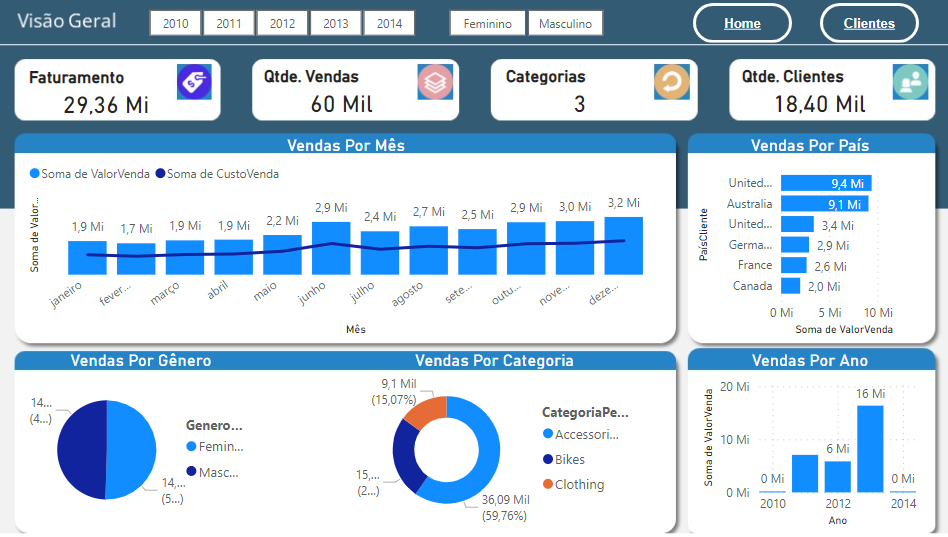

What the dashboard file says about the page in this screenshot:
{"tool":"powerbi","page":{"name":"Visao Geral","canvas":[1280,720],"ordinal":1},"visuals":[{"type":"actionButton","box":[862.9,92.1,100,40.3],"z":0},{"type":"actionButton","box":[991,92.1,100,40.3],"z":1},{"type":"card","title":"Faturamento","fields":{"Values":["vw_AnaliseVendas - vw_AnaliseVendas.ValorVenda"]},"box":[186.8,156.1,165.7,55.2],"z":2},{"type":"card","title":"Qtde. Vendas","fields":{"Values":["vw_AnaliseVendas - vw_AnaliseVendas.QuantidadeVendida"]},"box":[424.1,155.6,166.3,55.4],"z":3},{"type":"card","title":"Categorias","fields":{"Values":["vw_AnaliseVendas - vw_AnaliseVendas.CategoriaPedido"]},"box":[669.2,155.6,159.5,55.4],"z":4},{"type":"card","title":"Qtde. Clientes","fields":{"Values":["vw_AnaliseVendas - vw_AnaliseVendas.NomeCliente"]},"box":[907.5,155.6,166.3,55.4],"z":5},{"type":"lineClusteredColumnComboChart","title":"Vendas Por Mês","fields":{"Category":["vw_AnaliseVendas - vw_AnaliseVendas.DataPedido.Variation.Hierarquia de datas.Mês"],"Y":["vw_AnaliseVendas - vw_AnaliseVendas.ValorVenda"],"Y2":["vw_AnaliseVendas - vw_AnaliseVendas.CustoVenda"]},"box":[186.9,225.3,650.5,207.1],"z":6},{"type":"clusteredBarChart","title":"Vendas Por País","fields":{"Category":["vw_AnaliseVendas - vw_AnaliseVendas.PaísCliente"],"Y":["vw_AnaliseVendas - vw_AnaliseVendas.ValorVenda"]},"box":[862.6,225.3,236.4,207.1],"z":7},{"type":"pieChart","title":"Vendas Por Gênero","fields":{"Category":["vw_AnaliseVendas - vw_AnaliseVendas.GeneroCliente"],"Y":["vw_AnaliseVendas - vw_AnaliseVendas.ValorVenda"]},"box":[185.9,442.4,238.4,182.8],"z":8},{"type":"slicer","fields":{"Values":["vw_AnaliseVendas - vw_AnaliseVendas.GeneroCliente"]},"box":[590.9,91.9,205.1,40.4],"z":9},{"type":"slicer","fields":{"Values":["vw_AnaliseVendas - vw_AnaliseVendas.DataPedido.Variation.Hierarquia de datas.Ano"]},"box":[287.9,91.9,318.2,40.4],"z":10},{"type":"donutChart","title":"Vendas Por Categoria","fields":{"Category":["vw_AnaliseVendas - vw_AnaliseVendas.CategoriaPedido"],"Y":["vw_AnaliseVendas - vw_AnaliseVendas.CategoriaPedido"]},"box":[512.1,442.4,300,182.8],"z":11},{"type":"clusteredColumnChart","title":"Vendas Por Ano","fields":{"Category":["vw_AnaliseVendas - vw_AnaliseVendas.DataPedido.Variation.Hierarquia de datas.Ano"],"Y":["vw_AnaliseVendas - vw_AnaliseVendas.ValorVenda"]},"box":[867.7,442.4,226.3,182.8],"z":12}]}

Visuals, with their boxes in screenshot pixels (x1, y1, x2, y2), scaled from the page's 1280x720 canvas onto the 948x537 screenshot:
actionButton: box=[639, 69, 713, 99]
actionButton: box=[734, 69, 808, 99]
"Faturamento" card: box=[138, 116, 261, 158]
"Qtde. Vendas" card: box=[314, 116, 437, 157]
"Categorias" card: box=[496, 116, 614, 157]
"Qtde. Clientes" card: box=[672, 116, 795, 157]
"Vendas Por Mês" lineClusteredColumnComboChart: box=[138, 168, 620, 322]
"Vendas Por País" clusteredBarChart: box=[639, 168, 814, 322]
"Vendas Por Gênero" pieChart: box=[138, 330, 314, 466]
slicer - vw_AnaliseVendas - vw_AnaliseVendas.GeneroCliente: box=[438, 69, 590, 99]
slicer - vw_AnaliseVendas - vw_AnaliseVendas.DataPedido.Variation.Hierarquia de datas.Ano: box=[213, 69, 449, 99]
"Vendas Por Categoria" donutChart: box=[379, 330, 601, 466]
"Vendas Por Ano" clusteredColumnChart: box=[643, 330, 810, 466]
